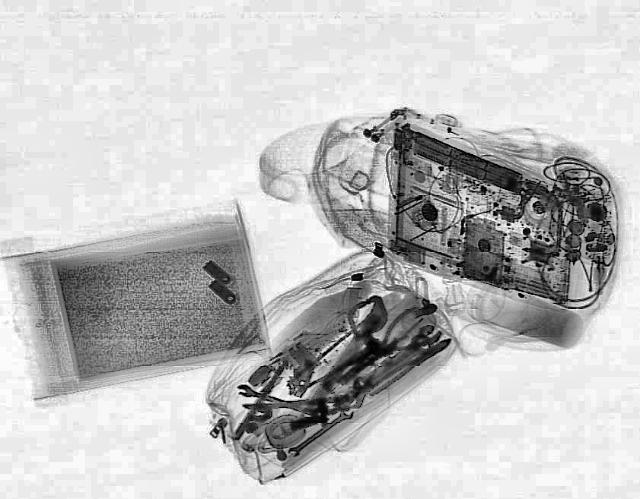Pliers: (343, 304, 447, 376)
Wrench: (282, 404, 358, 460), (233, 382, 319, 420)
